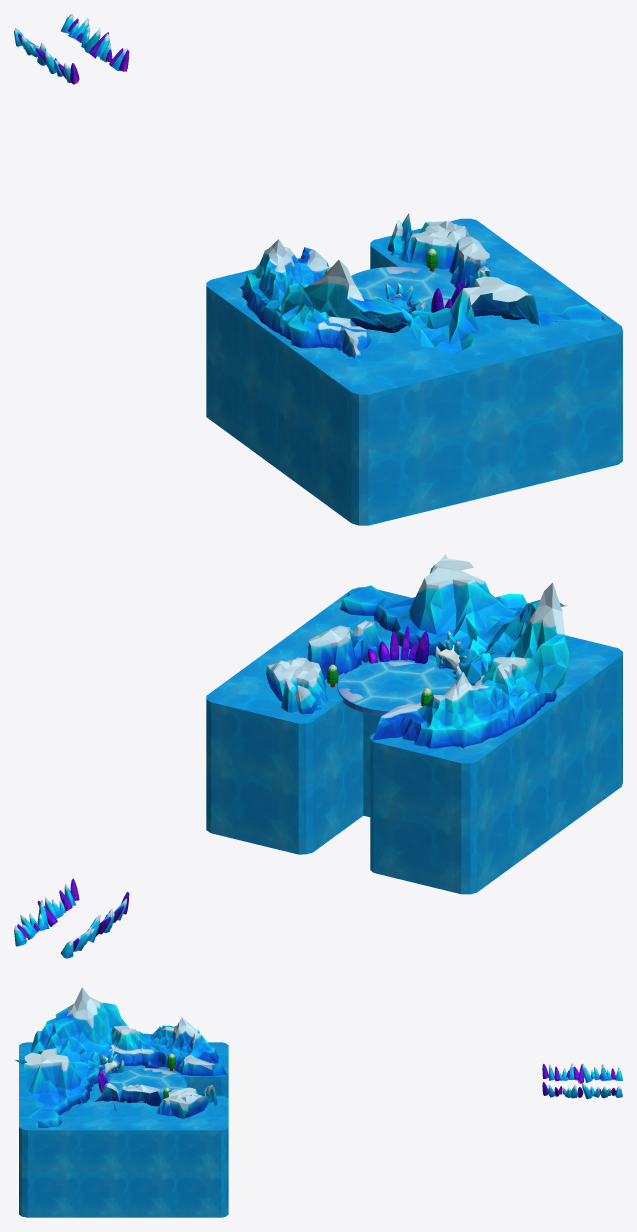
File: Ice.FBX
3 views of the same model, one above another, from view 1: azimuth 30°, elevation 25°; view 2: azimuth 150°, elevation 25°; view 3: azimuth 270°, elevation 25° (orthographic). The views are drawn at different scales.
Parts seen in each view (by area): view 1: Ice_Landscape, Ice_Fence_L, Ice_Fence_R; view 2: Ice_Landscape, Ice_Fence_L, Ice_Fence_R; view 3: Ice_Landscape, Ice_Fence_R, Ice_Fence_L.
Boxes of the visible parts, left/top/right/bottom form: Ice_Landscape: left=206, top=213, right=622, bottom=525; Ice_Fence_L: left=61, top=14, right=129, bottom=71; Ice_Fence_R: left=14, top=28, right=79, bottom=84; Ice_Landscape: left=206, top=554, right=622, bottom=894; Ice_Fence_L: left=14, top=878, right=79, bottom=946; Ice_Fence_R: left=60, top=892, right=129, bottom=958; Ice_Landscape: left=14, top=987, right=228, bottom=1217; Ice_Fence_R: left=542, top=1063, right=622, bottom=1083; Ice_Fence_L: left=542, top=1081, right=622, bottom=1099.
Size of the model in its own units: 48.89 by 38.16 by 139.
Materials: 1 (1 with a texture image).
